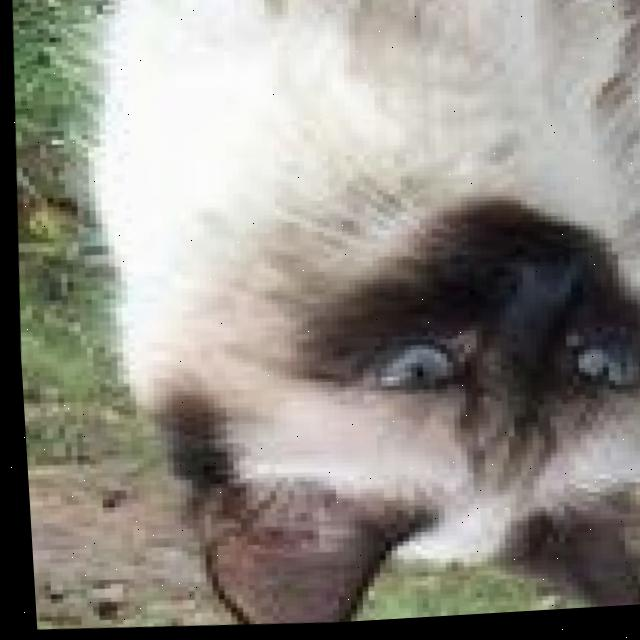Birman: (55, 0, 640, 637)
